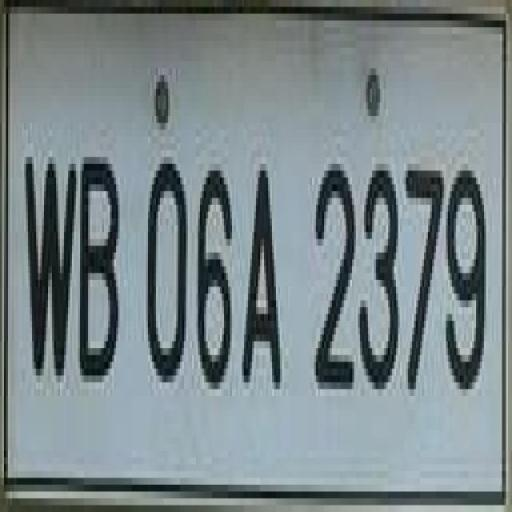number plate: (0, 20, 494, 512)
